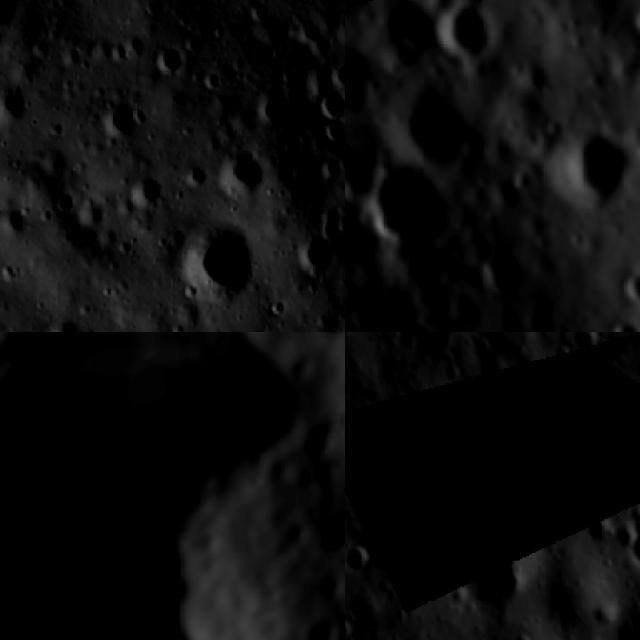crater: (0, 332, 345, 640), (367, 61, 498, 199), (345, 134, 471, 274), (534, 111, 640, 234), (413, 0, 530, 93), (164, 216, 258, 313), (345, 19, 407, 150), (464, 518, 531, 621), (0, 332, 72, 384), (216, 137, 276, 199), (302, 497, 345, 578), (345, 400, 389, 477), (294, 416, 345, 470), (95, 87, 141, 145), (603, 254, 640, 320), (274, 516, 321, 566), (294, 222, 336, 276), (246, 77, 294, 124), (121, 163, 172, 207), (307, 62, 345, 119), (234, 464, 278, 508), (292, 604, 345, 640), (399, 332, 455, 366), (292, 11, 328, 62), (378, 0, 454, 23), (0, 75, 34, 126), (46, 185, 88, 221), (500, 0, 569, 20), (0, 0, 34, 36), (594, 310, 640, 332), (345, 537, 372, 574), (245, 0, 276, 30), (0, 202, 25, 239), (46, 315, 93, 332), (584, 516, 610, 546), (570, 332, 601, 356), (615, 527, 637, 555), (552, 346, 577, 364), (345, 614, 362, 640)
